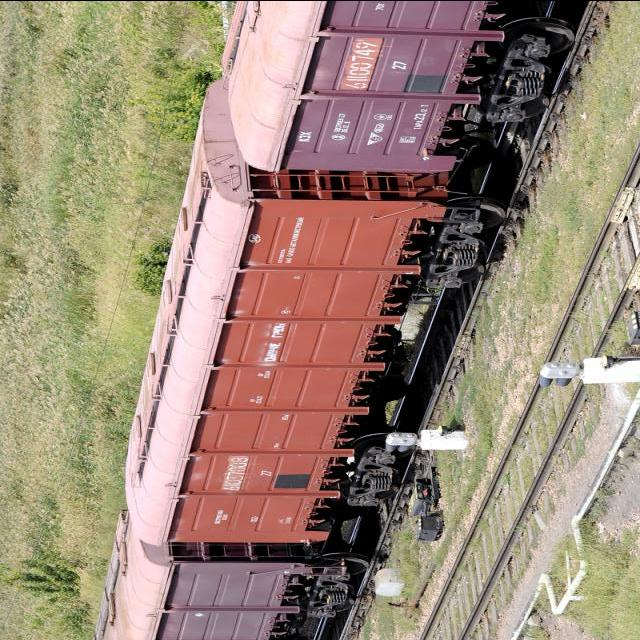wagon: (220, 454, 254, 491)
